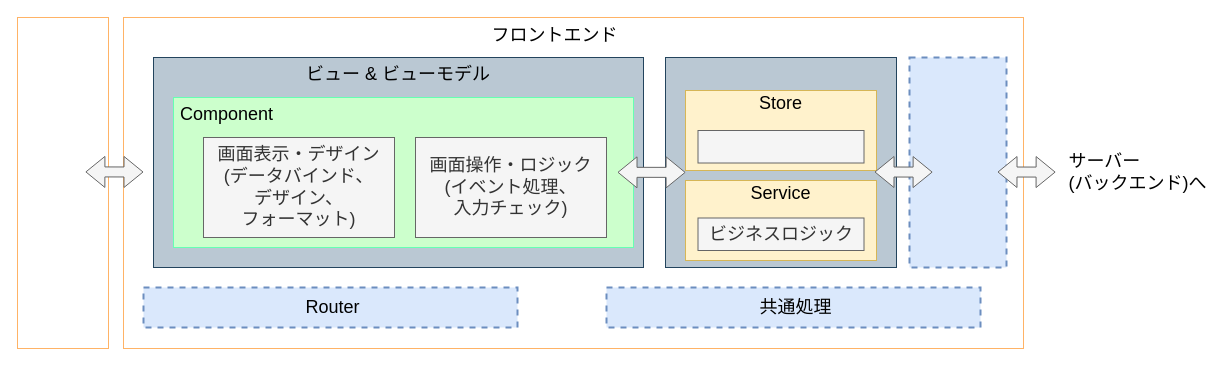
Image size: 1230x366. Some labels were removed from this diagram. The box of each missing label's shape, as (x1, y1, x2, y2) in pixels:
ブラウザ: (16, 16, 108, 348)
モデル: (664, 56, 896, 268)
状態管理: (697, 130, 864, 163)
通信制御: (908, 56, 1007, 268)
